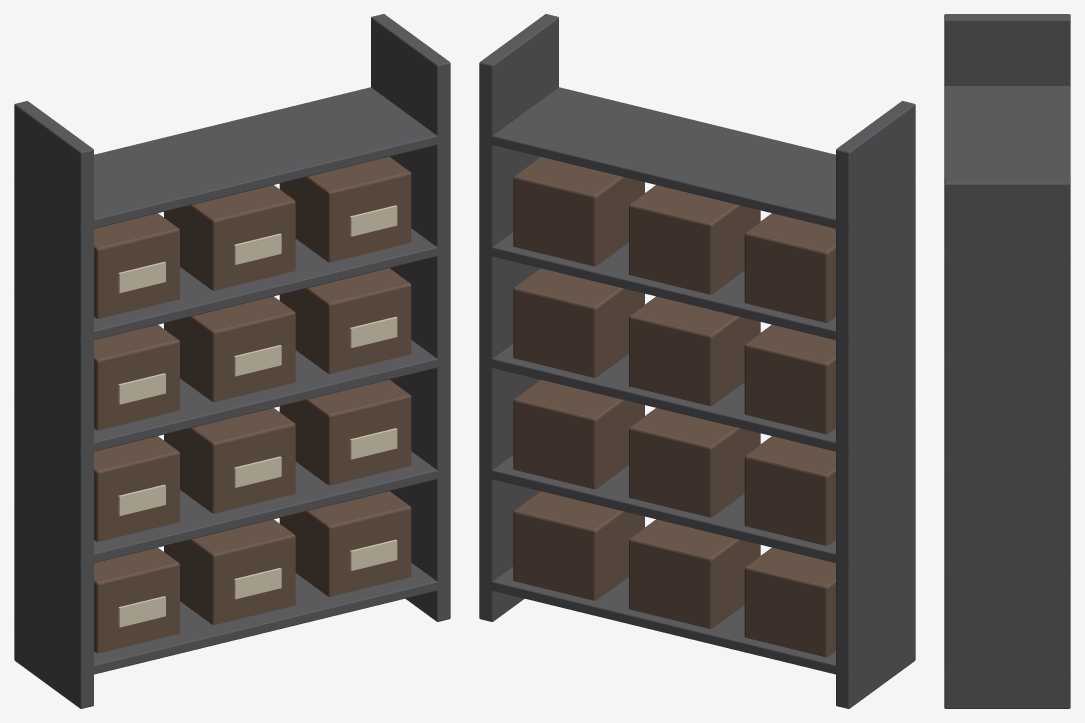
3 renders of one model, left to right at view 1: azimuth 30°, elevation 25°; view 2: azimuth 150°, elevation 25°; view 3: azimuth 270°, elevation 25°, orthographic. The views are drawn at different scales.
Visible parts, largest first — view 1: stackShelf; view 2: stackShelf; view 3: stackShelf.
Boxes of the visible parts, x1,y1,x2,y2 form: stackShelf: (14,14,450,708); stackShelf: (479,14,915,708); stackShelf: (944,14,1070,708).
Size of the model in its own units: 1.6 by 2.3 by 0.5.
